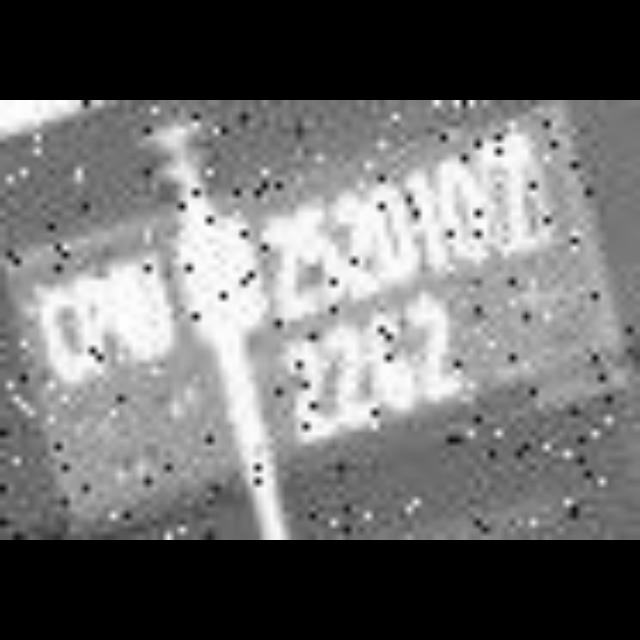0: (430, 156, 502, 276), (364, 178, 427, 299)
1: (402, 161, 466, 282)
2: (273, 330, 349, 453), (401, 282, 475, 407), (252, 209, 328, 329), (322, 317, 388, 444), (331, 183, 387, 309)
5: (292, 192, 358, 326)
6: (365, 300, 425, 432)
7: (469, 117, 573, 267)
a: (70, 265, 152, 388)
c: (28, 278, 99, 399)
i: (108, 257, 168, 367)
u: (124, 248, 191, 361)
